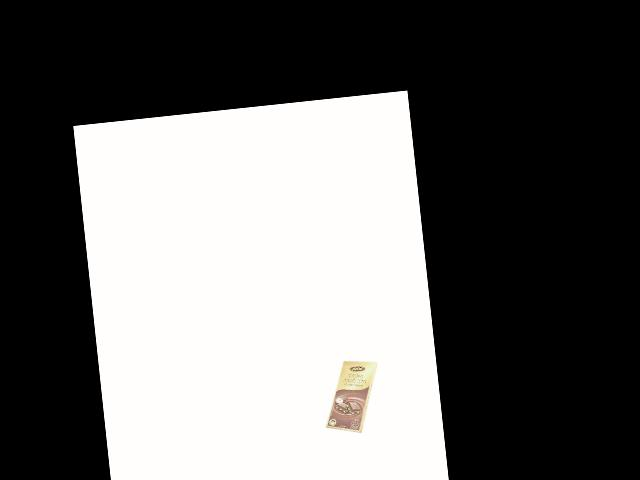chocolate: (319, 356, 387, 443)
